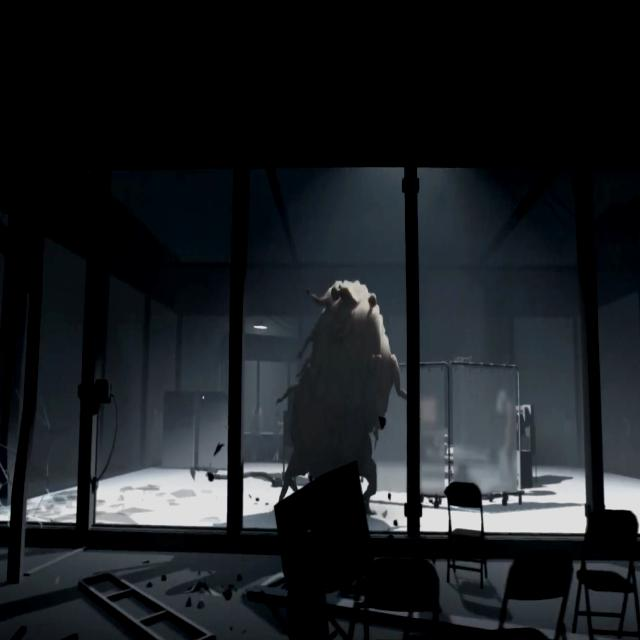blob: (274, 279, 406, 526)
